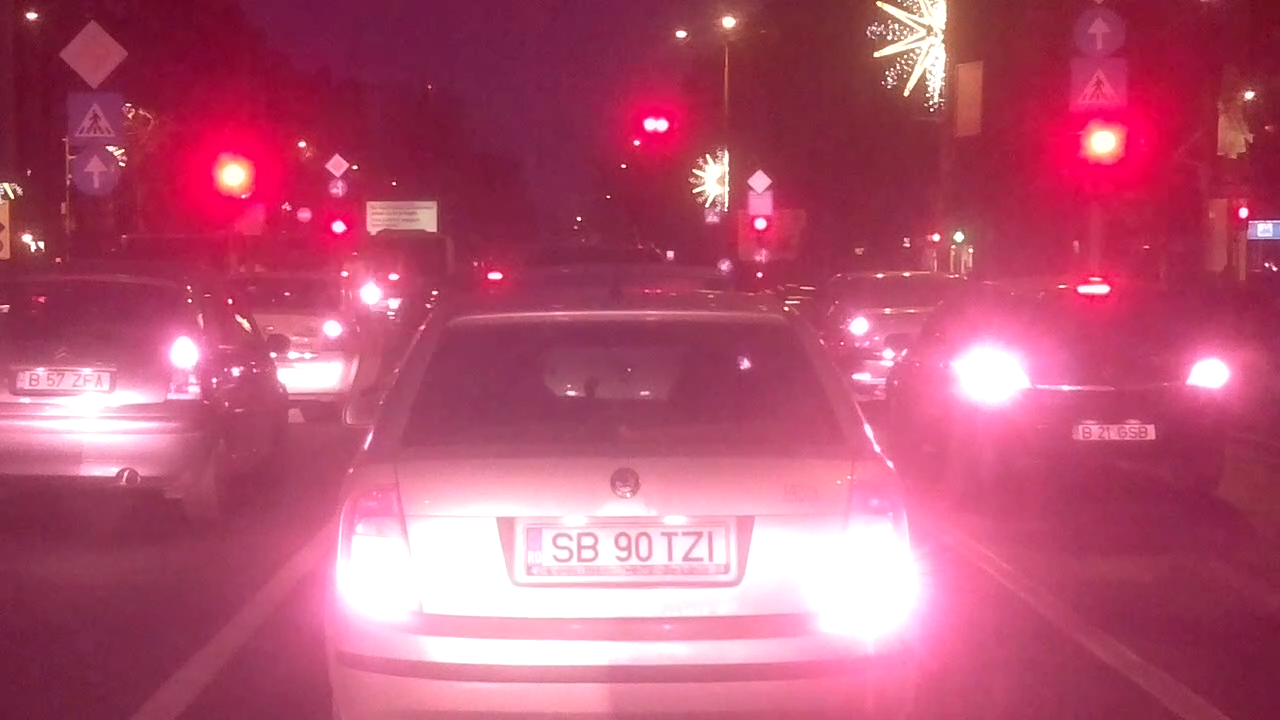license-plate: (519, 520, 734, 575), (10, 367, 113, 392), (1070, 419, 1159, 443)
